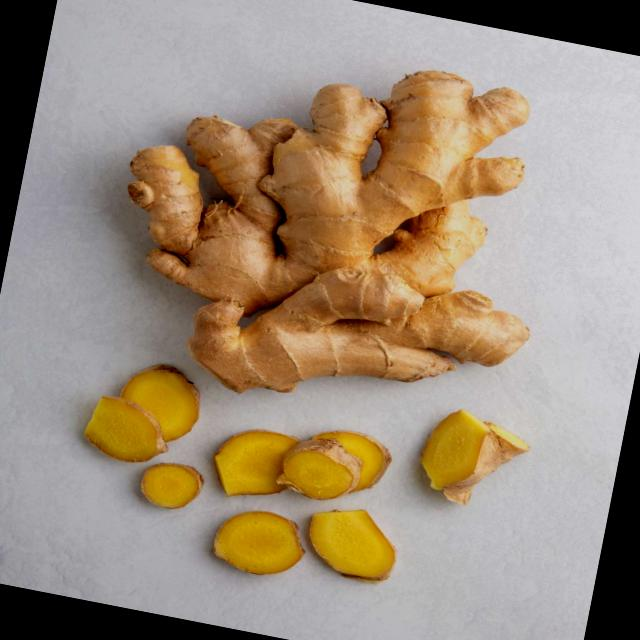ginger-root: (92, 10, 588, 448)
